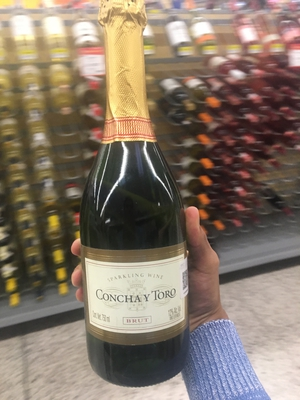brut: (77, 1, 200, 390)
